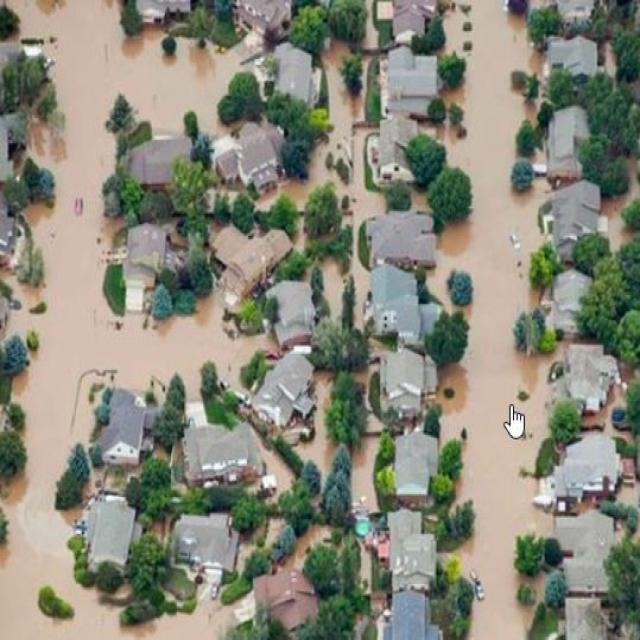flood: (0, 0, 268, 640), (420, 0, 568, 640), (260, 41, 385, 232), (310, 39, 386, 230), (298, 371, 337, 476), (321, 250, 371, 328), (603, 160, 640, 246), (352, 420, 381, 511), (278, 526, 331, 572), (362, 0, 379, 50)
house: (179, 420, 259, 492), (250, 350, 315, 438), (544, 432, 626, 501), (218, 228, 284, 304), (556, 516, 614, 598), (89, 495, 140, 584), (374, 349, 436, 421), (368, 209, 439, 271), (368, 258, 419, 344), (550, 179, 607, 252), (222, 122, 283, 188), (386, 508, 436, 588), (173, 508, 238, 568), (128, 131, 186, 195), (100, 388, 146, 467), (386, 46, 440, 113), (544, 107, 592, 181), (391, 432, 437, 508), (267, 278, 318, 346), (126, 219, 169, 288), (546, 34, 600, 86), (386, 588, 440, 640), (272, 46, 314, 112), (376, 116, 418, 182), (368, 0, 435, 40), (231, 1, 294, 41), (562, 598, 619, 640), (546, 270, 586, 328), (137, 0, 190, 30)
